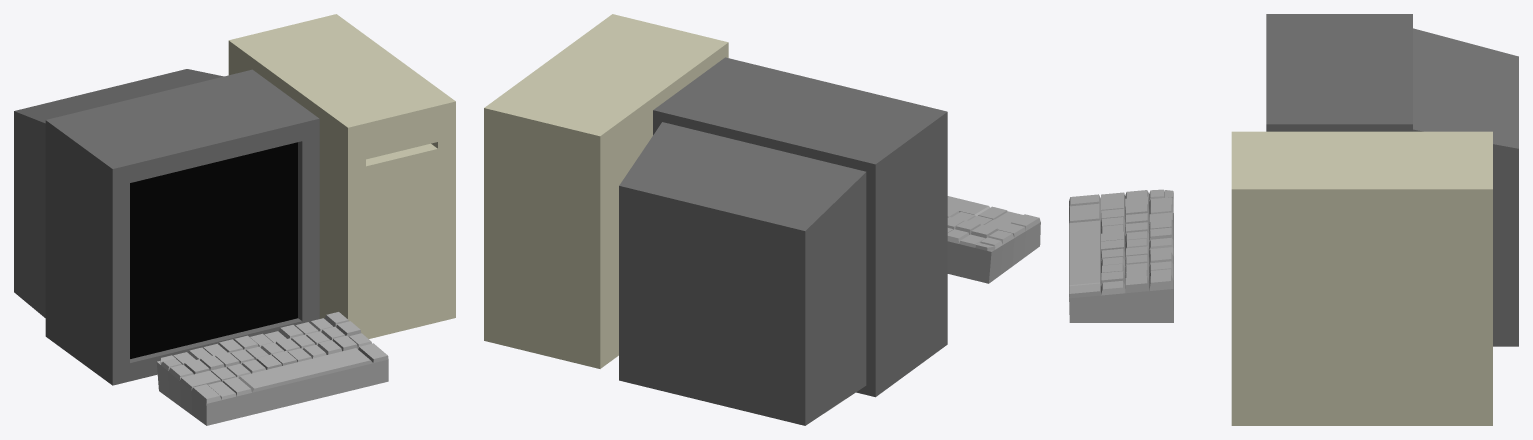
File: computer.glb
3 views of the same model, side by side, from view 1: azimuth 30°, elevation 25°; view 2: azimuth 150°, elevation 25°; view 3: azimuth 270°, elevation 25° (orthographic). The views are drawn at different scales.
Parts seen in each view (by area): view 1: Куб, Куб.001, Куб.002; view 2: Куб, Куб.001, Куб.002; view 3: Куб.001, Куб, Куб.002.
Part boxes in pixels (box(x1,y1,x2,y2)): Куб: box(14, 69, 319, 385); Куб.001: box(228, 14, 455, 338); Куб.002: box(156, 312, 388, 425); Куб: box(619, 57, 947, 425); Куб.001: box(484, 14, 728, 368); Куб.002: box(947, 196, 1040, 283); Куб.001: box(1231, 131, 1492, 425); Куб: box(1266, 14, 1518, 346); Куб.002: box(1069, 189, 1173, 322).
Size of the model in its own units: 3.17 by 2.01 by 3.45.
